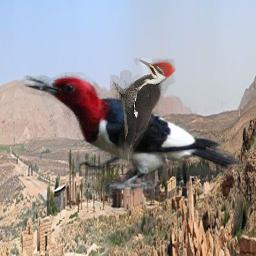Woodpecker: (17, 70, 245, 198), (110, 58, 176, 166)
